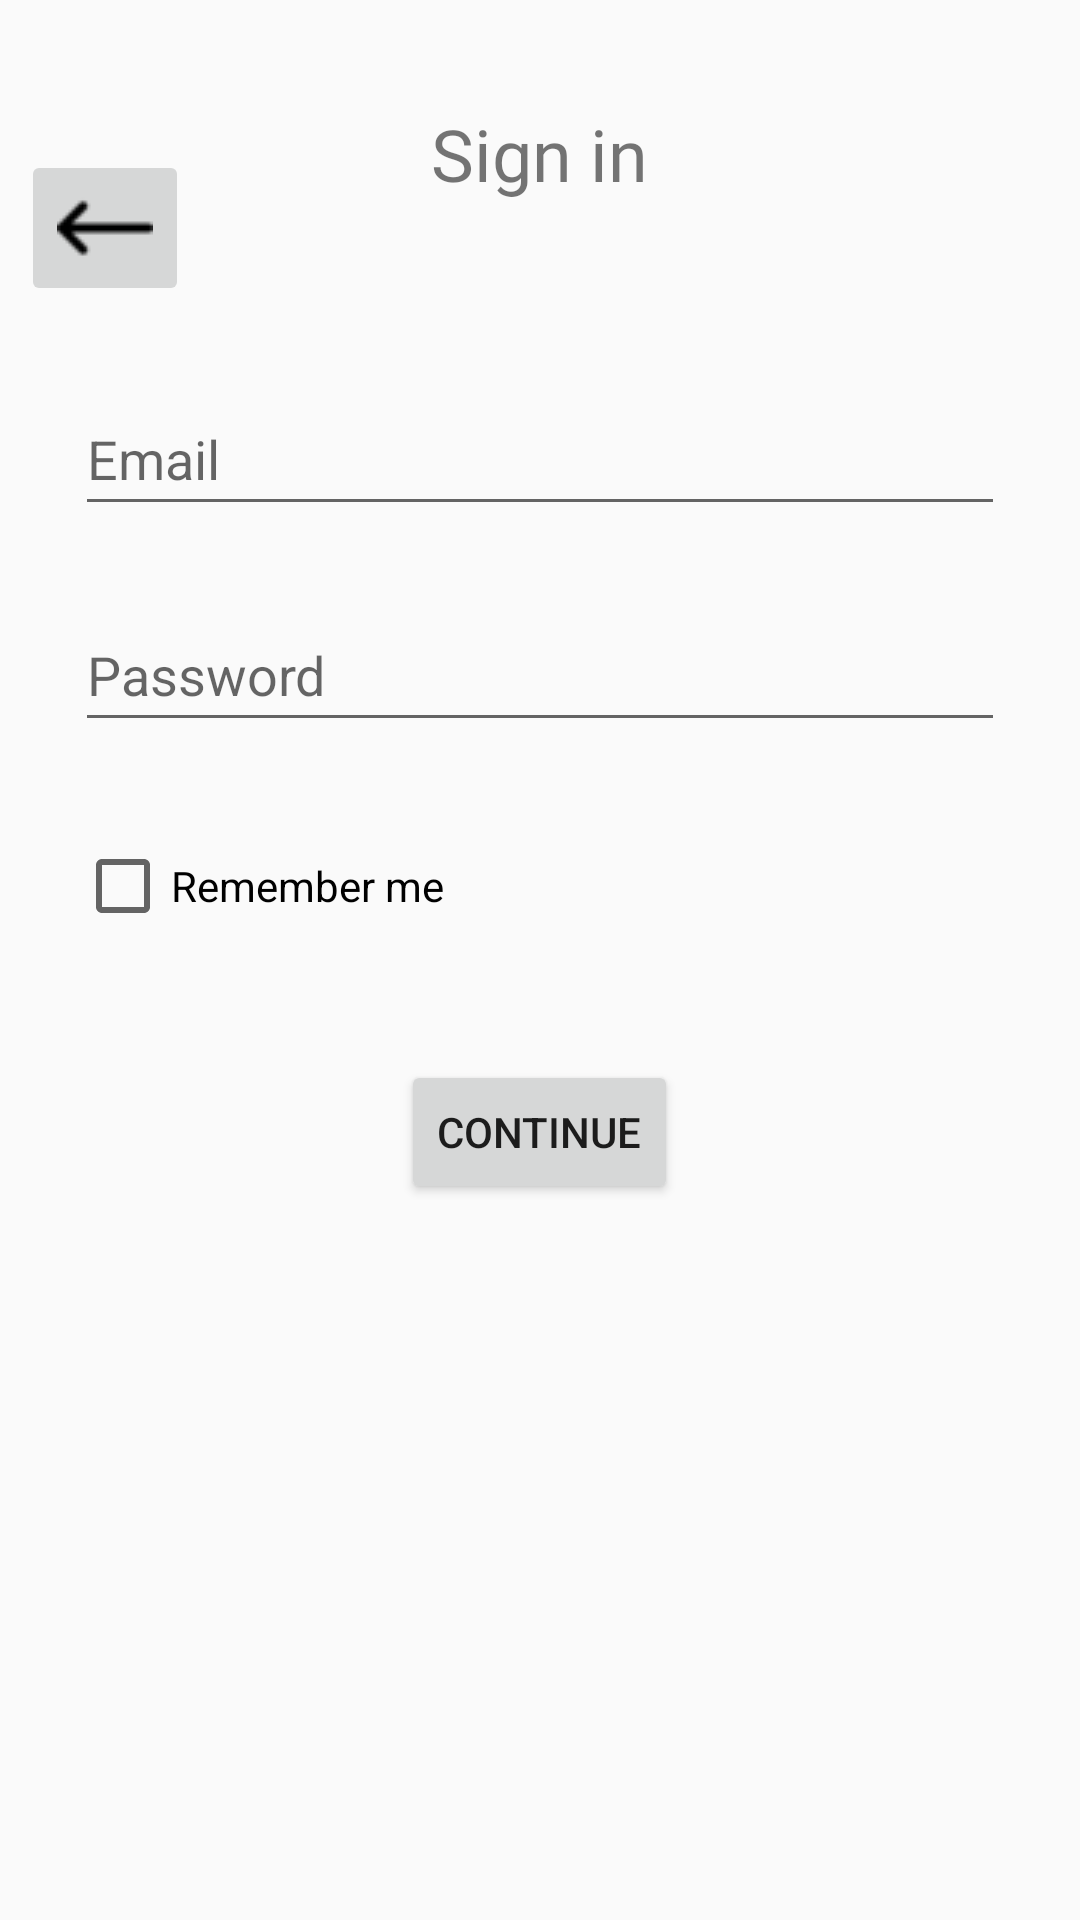

Icons on this 1080w x 1920h Android screen, each with the point to tap as point (x, y):
Back: point (105, 228)
